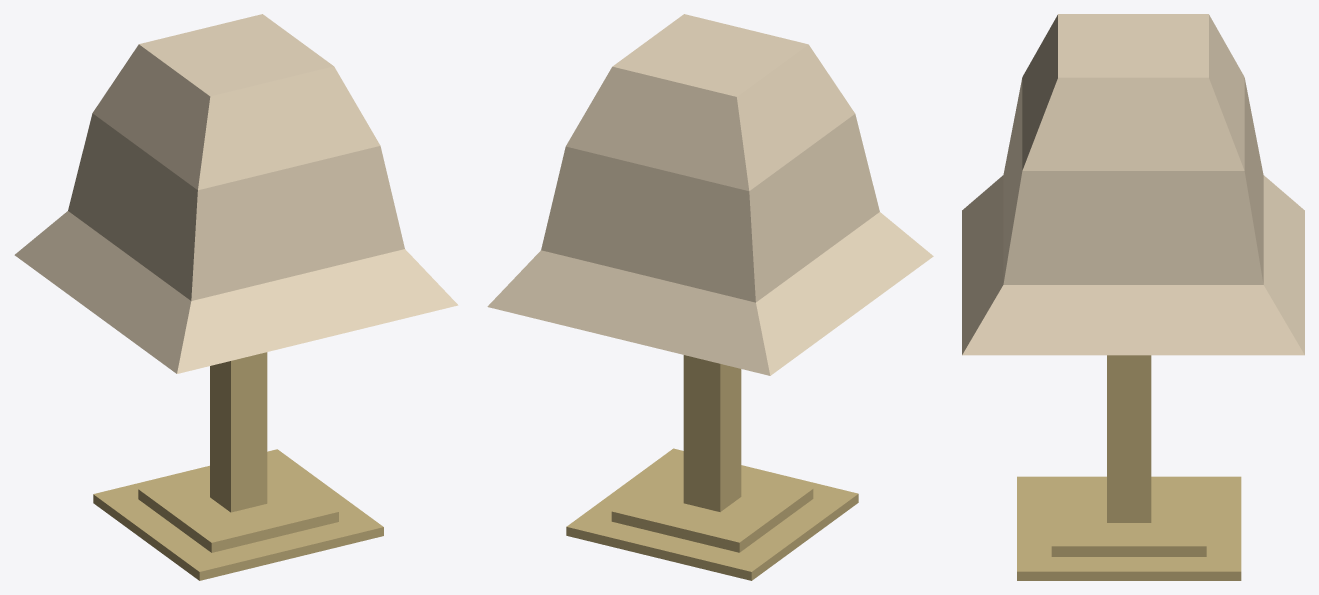
File: TTlamp.fbx
3 renders of one model, left to right at view 1: azimuth 30°, elevation 25°; view 2: azimuth 150°, elevation 25°; view 3: azimuth 270°, elevation 25°, orthographic. The views are drawn at different scales.
Parts seen in each view (by area): view 1: Shade, Stand; view 2: Shade, Stand; view 3: Shade, Stand.
Part boxes in pixels (<box>): Shade: <box>14,14,458,373</box>; Stand: <box>93,352,383,580</box>; Shade: <box>487,14,933,375</box>; Stand: <box>566,355,858,580</box>; Shade: <box>962,14,1304,355</box>; Stand: <box>1017,355,1241,580</box>.
Bounding box in the file's own units: 306 × 480 × 306.
